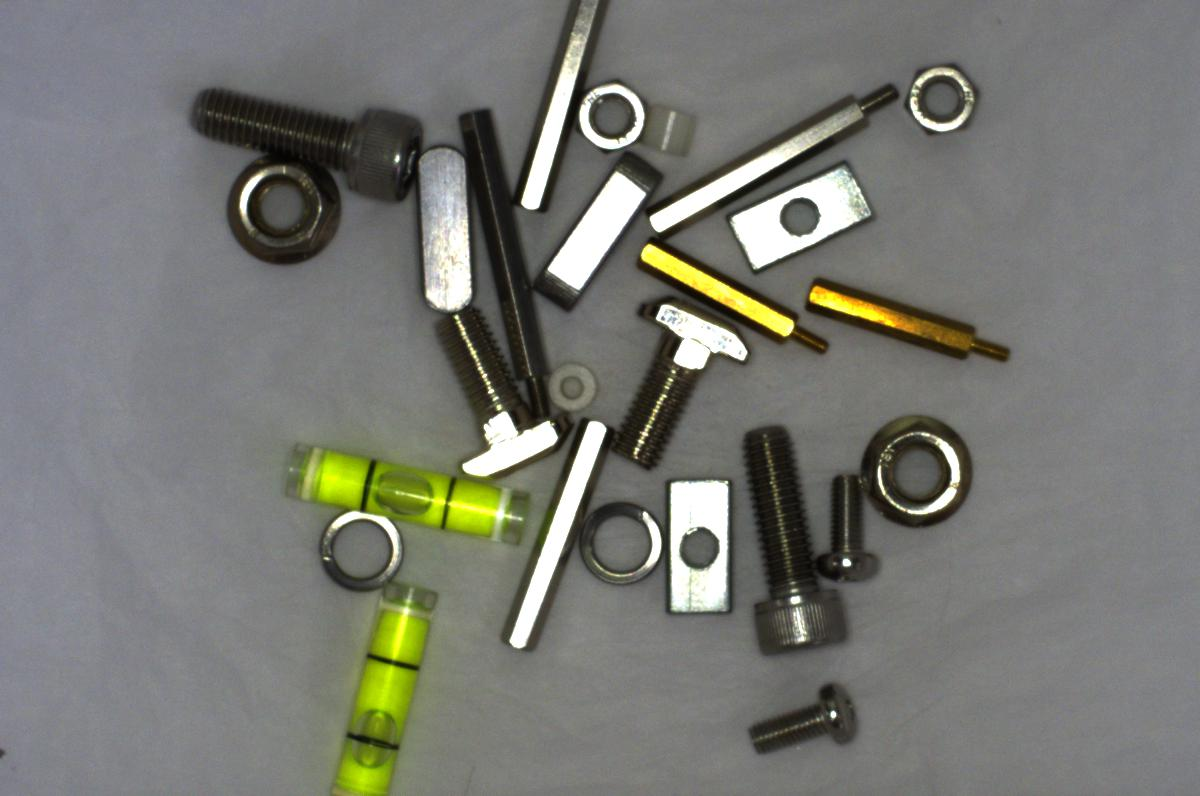Double hexagonal column: (500, 417, 620, 660), (501, 6, 639, 213)
Flange nut: (216, 150, 353, 273), (862, 403, 987, 536)
Hexagon nut: (896, 60, 987, 140), (570, 74, 647, 150)
Hexagon pillar: (630, 237, 833, 360), (807, 273, 1016, 372)
Hexagon screw: (734, 405, 857, 663), (179, 87, 425, 204)
Hexagonal steel column: (633, 74, 908, 244), (451, 95, 548, 410)
Horizontal bubble: (300, 574, 439, 795), (274, 435, 538, 551)
Keybar: (535, 151, 664, 313), (406, 142, 484, 318)
Plastic cushion pillar: (644, 94, 700, 165), (556, 353, 600, 413)
Rectangular nut: (728, 156, 879, 273), (650, 469, 748, 622)
Round head screw: (744, 668, 864, 758), (815, 468, 885, 581)
Spring washer: (311, 508, 415, 601), (579, 495, 666, 591)
T-shaped screw: (596, 294, 753, 472), (425, 295, 565, 482)
